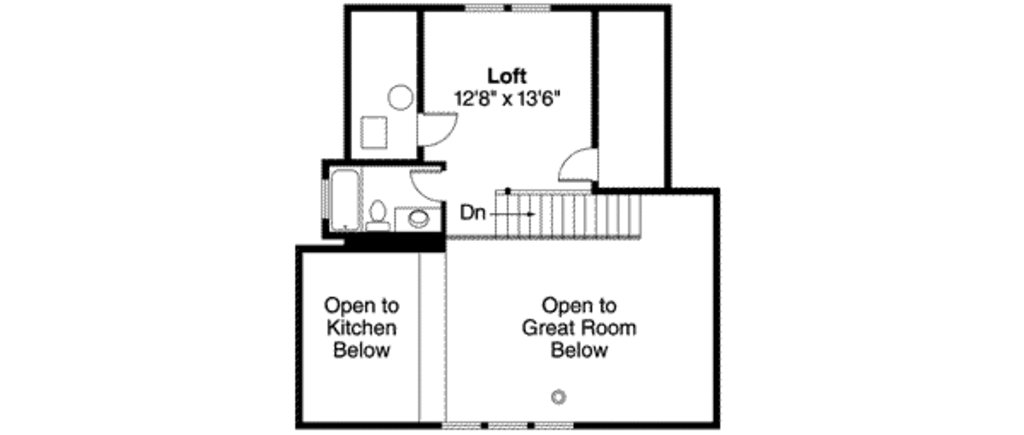door: (552, 146, 606, 183), (417, 108, 462, 149), (404, 166, 451, 203)
large_sink: (362, 197, 397, 237)
small_sink: (395, 194, 442, 236)
stairs: (481, 187, 658, 245)
tub: (326, 162, 365, 232)
window: (441, 418, 575, 430), (465, 1, 554, 11)
